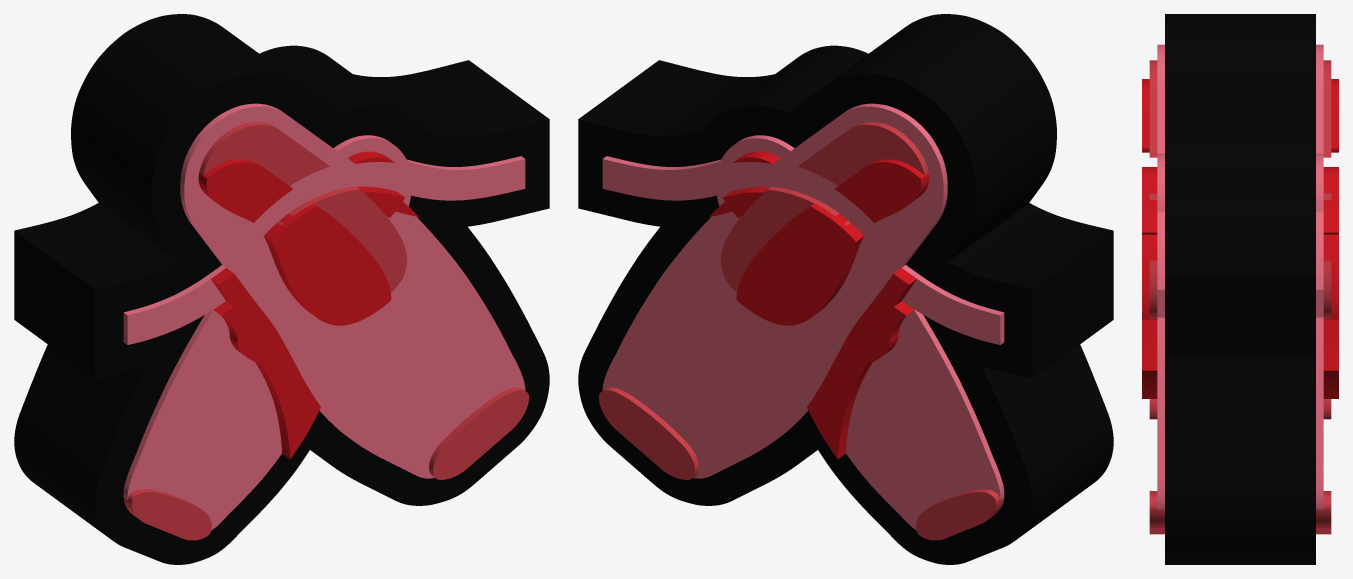
The picture shows the model from 3 angles, left to right: view 1: azimuth 30°, elevation 25°; view 2: azimuth 150°, elevation 25°; view 3: azimuth 270°, elevation 25°; orthographic projection. The views are drawn at different scales.
Visible parts, largest first — view 1: U+1FA70_layer00_obj00, U+1FA70_layer01_obj00, U+1FA70_layer03_obj00, U+1FA70_layer02_obj00; view 2: U+1FA70_layer00_obj00, U+1FA70_layer01_obj00, U+1FA70_layer03_obj00, U+1FA70_layer02_obj00; view 3: U+1FA70_layer00_obj00, U+1FA70_layer03_obj00, U+1FA70_layer01_obj00, U+1FA70_layer02_obj00.
Part boxes in pixels (<box>): U+1FA70_layer00_obj00: <box>14,14,549,564</box>; U+1FA70_layer01_obj00: <box>123,103,525,530</box>; U+1FA70_layer03_obj00: <box>198,151,418,459</box>; U+1FA70_layer02_obj00: <box>123,122,529,540</box>; U+1FA70_layer00_obj00: <box>578,14,1113,564</box>; U+1FA70_layer01_obj00: <box>602,103,1004,530</box>; U+1FA70_layer03_obj00: <box>709,151,929,459</box>; U+1FA70_layer02_obj00: <box>598,122,1004,540</box>; U+1FA70_layer00_obj00: <box>1165,14,1315,564</box>; U+1FA70_layer03_obj00: <box>1142,79,1338,398</box>; U+1FA70_layer01_obj00: <box>1157,44,1323,509</box>; U+1FA70_layer02_obj00: <box>1149,60,1331,534</box>.
Size of the model in its own units: 0.6491 by 0.649 by 0.26.
